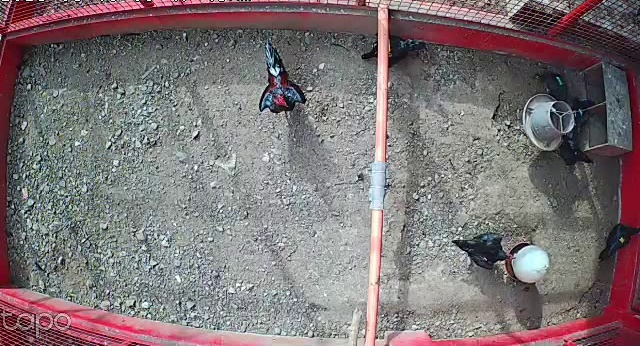Chicken: (587, 212, 640, 273), (451, 225, 516, 272), (358, 27, 429, 69), (531, 66, 572, 107), (548, 129, 594, 165), (562, 95, 595, 136)
Rooster: (243, 33, 306, 116)
Saddle_Color_YellowGreen: (617, 236, 627, 245)
